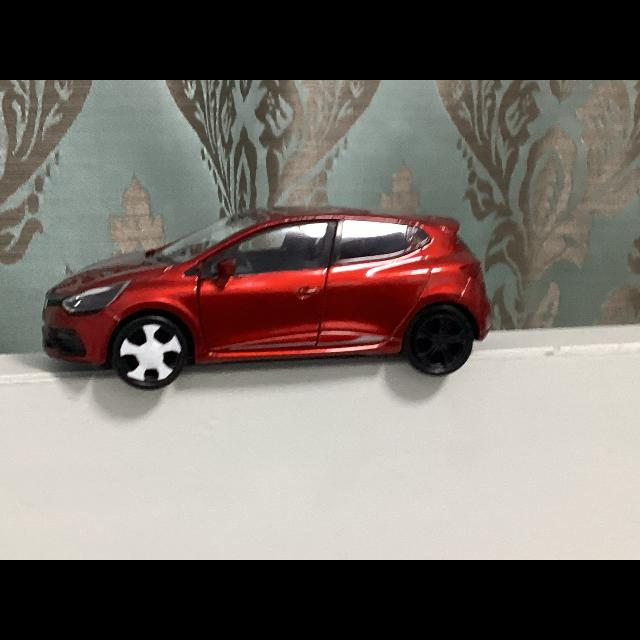Dogru_Jant: (414, 314, 468, 371)
Yanlis_Jant: (118, 322, 182, 383)
